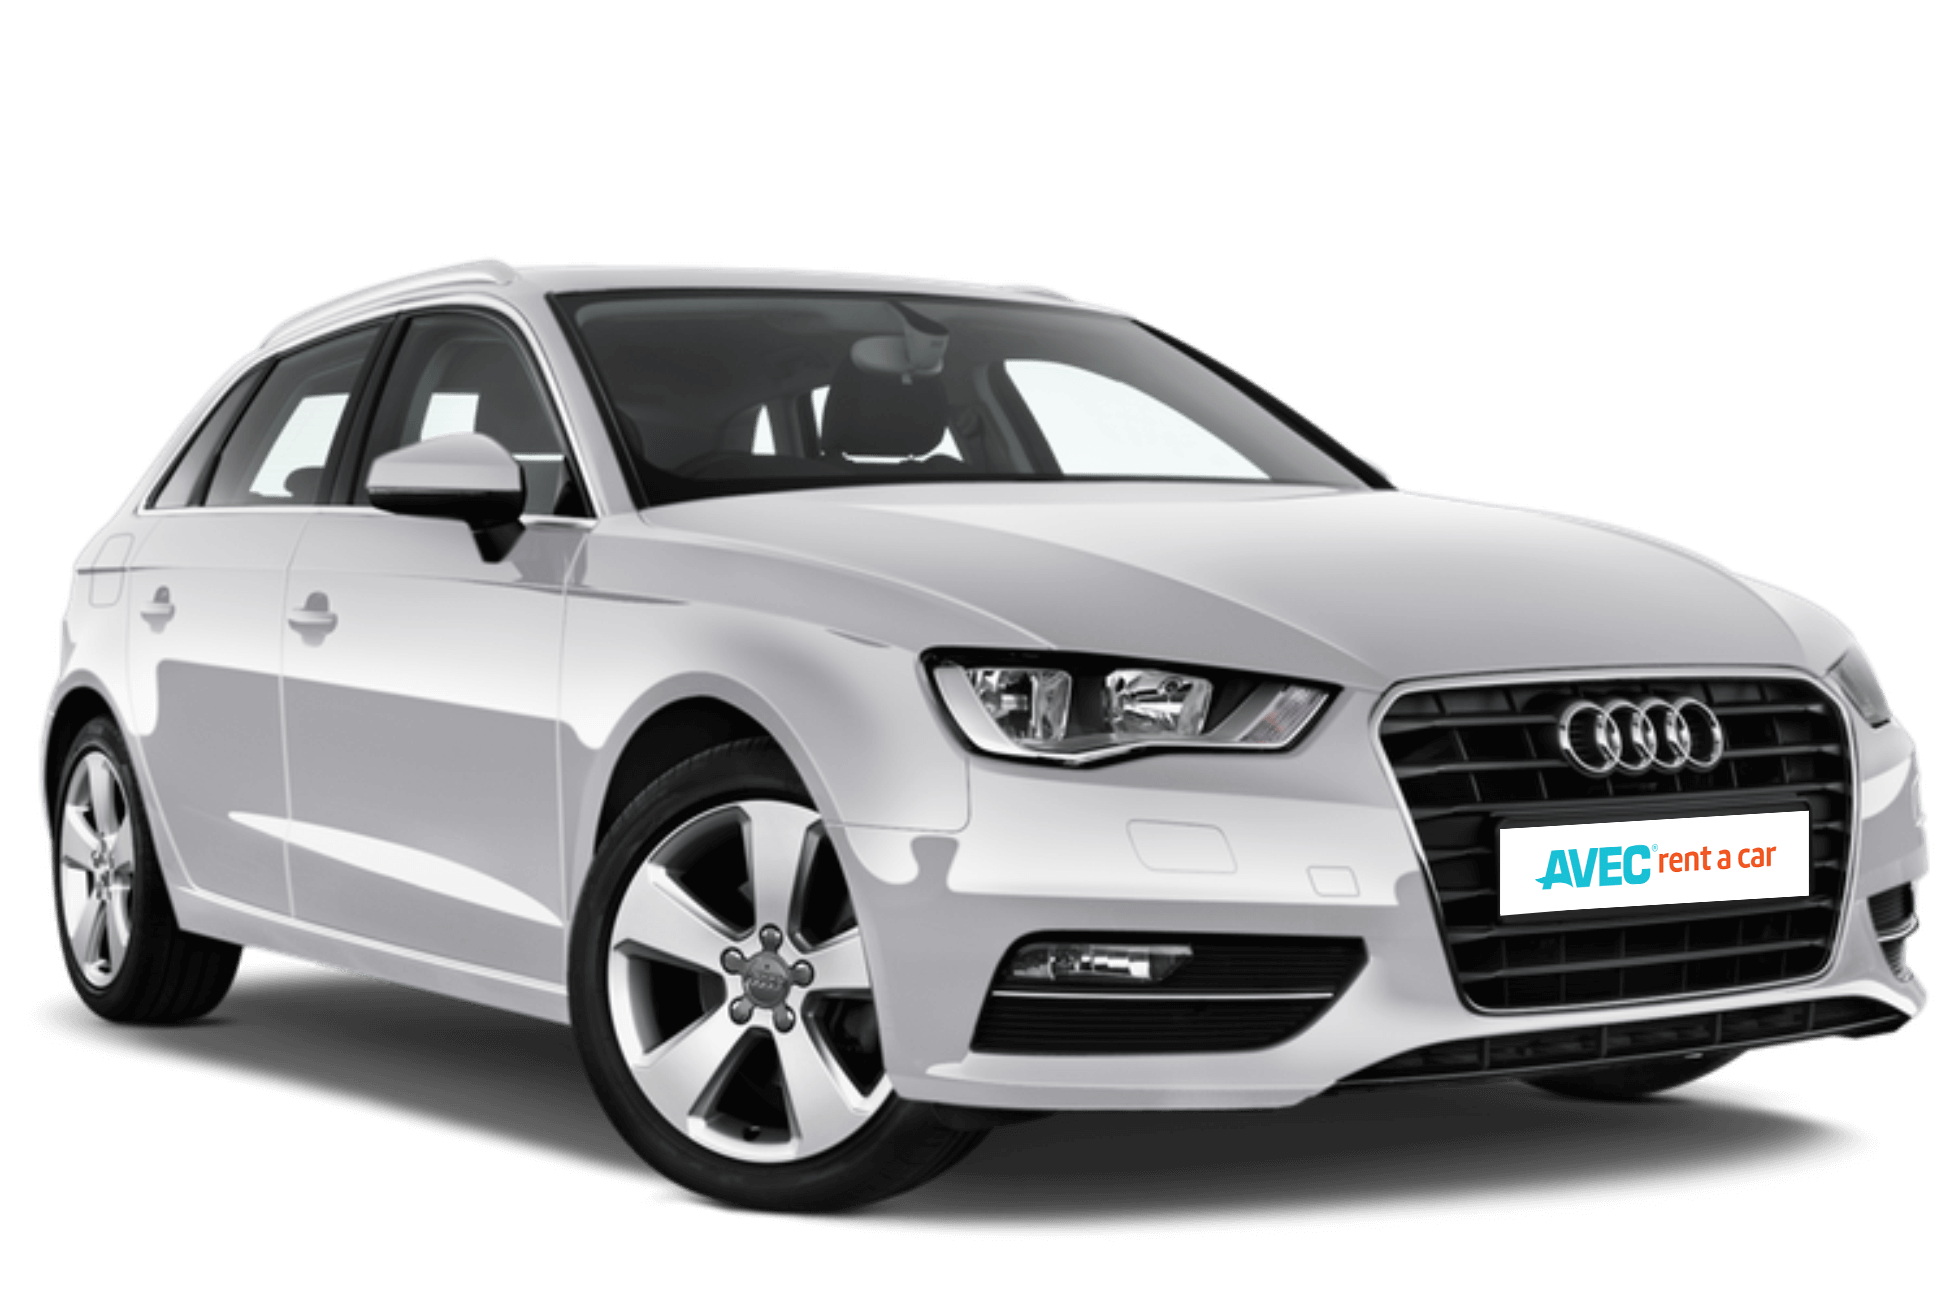car: (33, 251, 1949, 1234)
